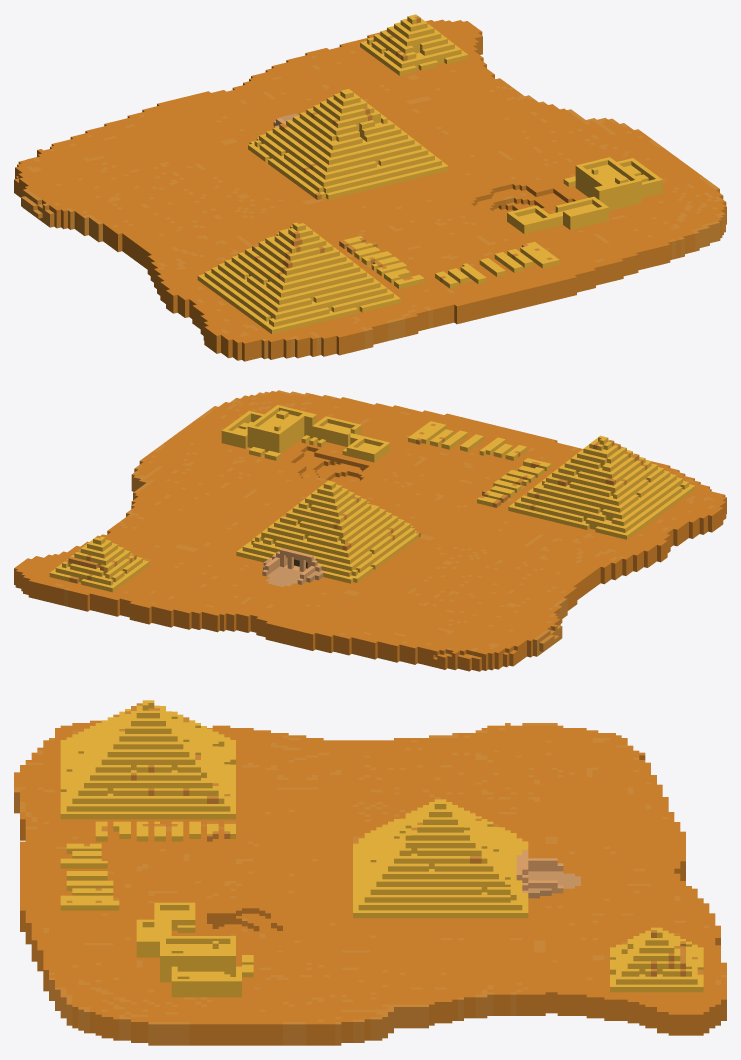
File: Pyramid2Bis.obj
The picture shows the model from 3 angles, top to bottom: view 1: azimuth 30°, elevation 25°; view 2: azimuth 150°, elevation 25°; view 3: azimuth 270°, elevation 25°; orthographic projection. The views are drawn at different scales.
Bounding box in the file's own units: 12.3 × 1.9 × 12.2.
Materials: 1 (1 with a texture image).
